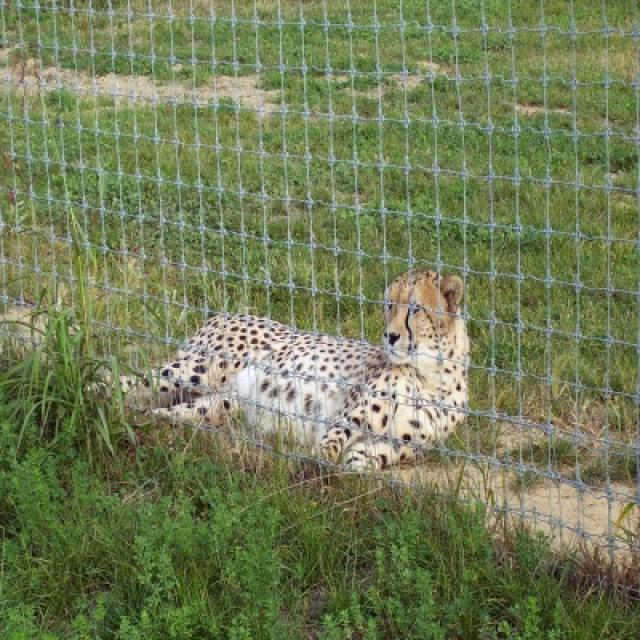Cheetah: (158, 272, 470, 472)
